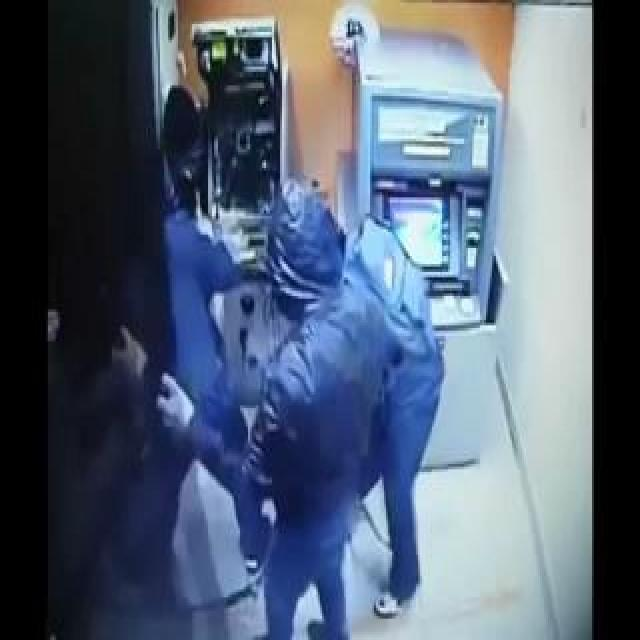thief: (274, 209, 378, 355)
